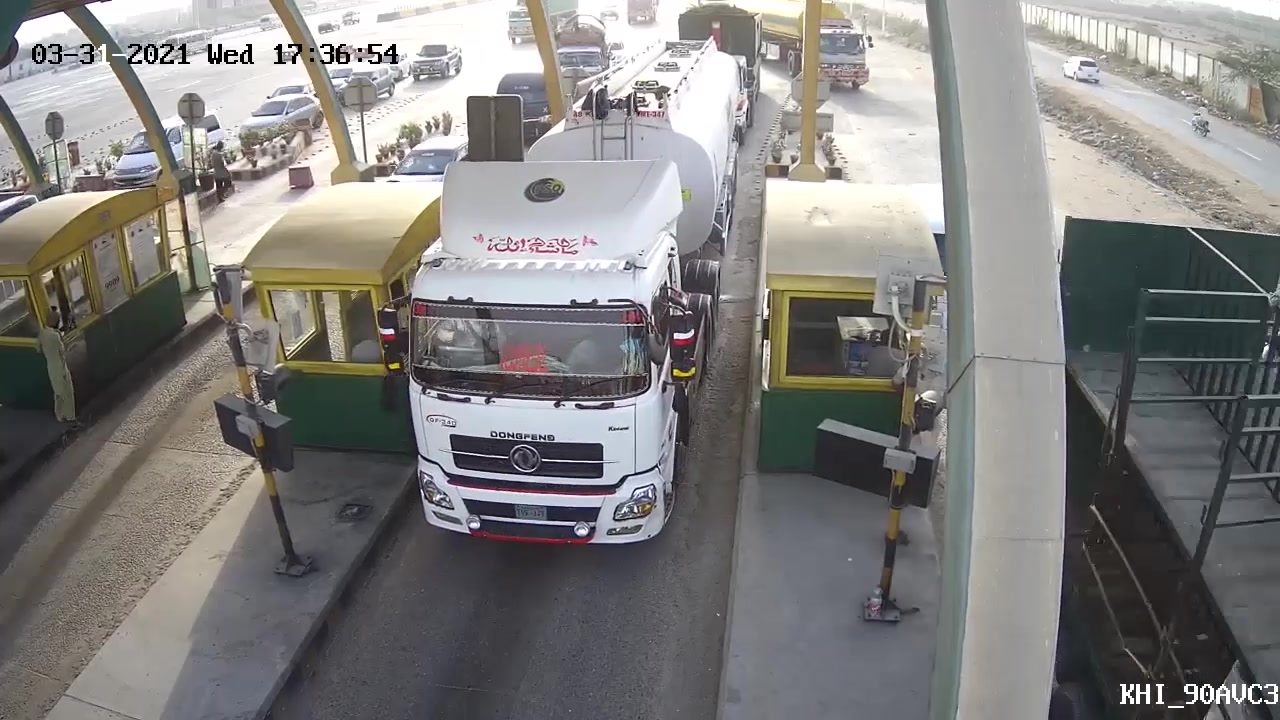F6: (400, 35, 739, 566)
